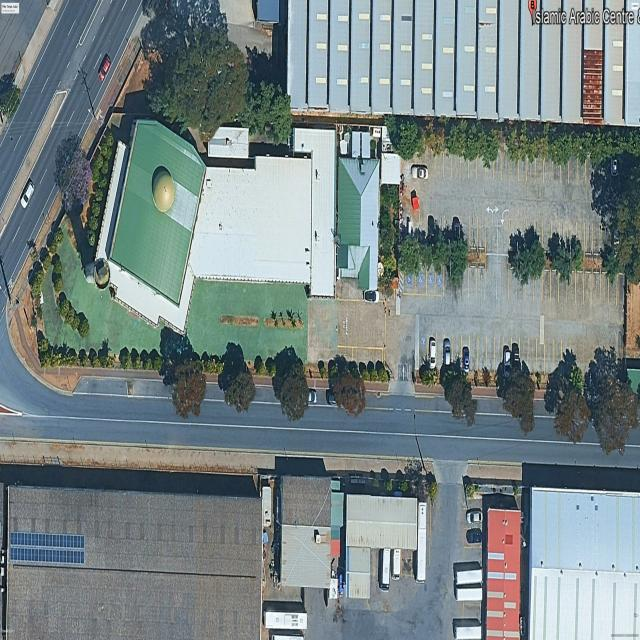Home: (277, 475, 333, 589), (337, 158, 380, 289)
mosque: (97, 120, 337, 332)
